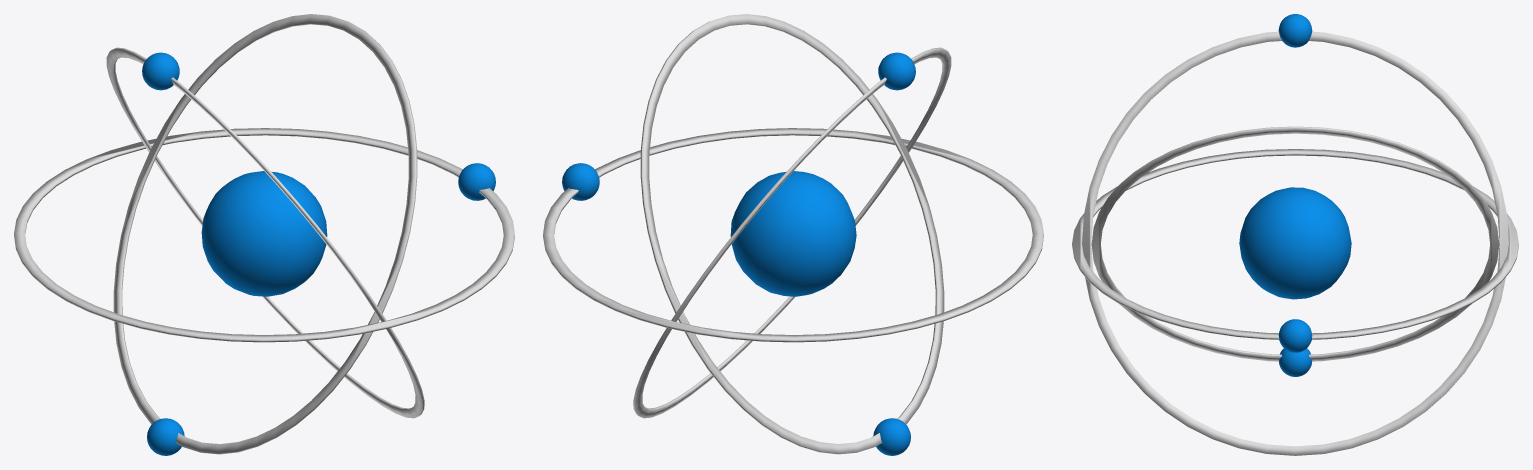
File: atom.glb
The picture shows the model from 3 angles, left to right: view 1: azimuth 30°, elevation 25°; view 2: azimuth 150°, elevation 25°; view 3: azimuth 270°, elevation 25°; orthographic projection. The views are drawn at different scales.
Parts seen in each view (by area): view 1: Sphere, BezierCircle.001, BezierCircle.003, BezierCircle.002, Sphere.003, Sphere.004, Sphere.002; view 2: Sphere, BezierCircle.001, BezierCircle.003, BezierCircle.002, Sphere.003, Sphere.004, Sphere.002; view 3: BezierCircle.002, Sphere, BezierCircle.001, BezierCircle.003, Sphere.002, Sphere.003, Sphere.004.
Boxes of the visible parts, left/top/right/bottom form: Sphere: left=201, top=171, right=327, bottom=296; BezierCircle.001: left=113, top=14, right=417, bottom=454; BezierCircle.003: left=14, top=128, right=514, bottom=342; BezierCircle.002: left=106, top=47, right=424, bottom=418; Sphere.003: left=142, top=52, right=179, bottom=90; Sphere.004: left=147, top=418, right=184, bottom=455; Sphere.002: left=458, top=163, right=495, bottom=200; Sphere: left=730, top=171, right=856, bottom=296; BezierCircle.001: left=640, top=14, right=944, bottom=454; BezierCircle.003: left=543, top=128, right=1043, bottom=342; BezierCircle.002: left=633, top=47, right=951, bottom=418; Sphere.003: left=878, top=52, right=915, bottom=90; Sphere.004: left=873, top=418, right=910, bottom=455; Sphere.002: left=562, top=163, right=599, bottom=200; BezierCircle.002: left=1082, top=31, right=1508, bottom=455; Sphere: left=1239, top=187, right=1351, bottom=299; BezierCircle.001: left=1091, top=126, right=1499, bottom=361; BezierCircle.003: left=1072, top=149, right=1518, bottom=339; Sphere.002: left=1278, top=319, right=1312, bottom=352; Sphere.003: left=1278, top=14, right=1312, bottom=47; Sphere.004: left=1279, top=348, right=1311, bottom=376.
Bounding box in the file's own units: 8.18 × 7.03 × 7.96.
